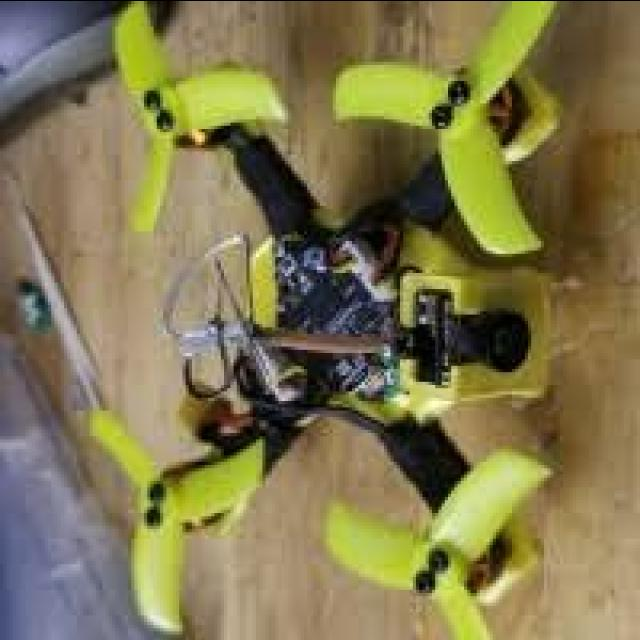drone: (72, 0, 588, 640)
